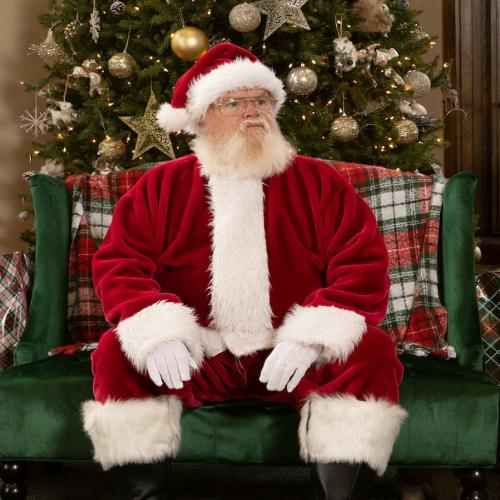Santa: (87, 42, 401, 500)
